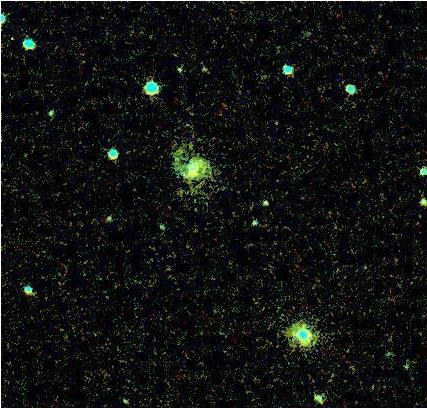star: (0, 23, 27, 53)
